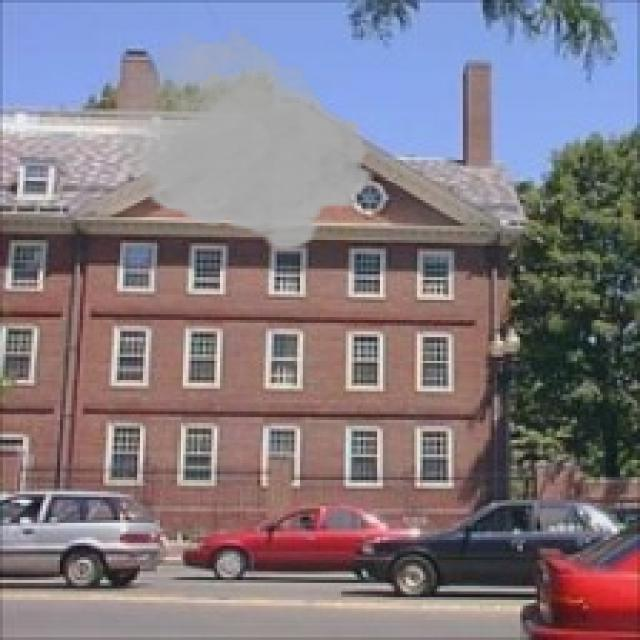smoke: (117, 23, 377, 251)
